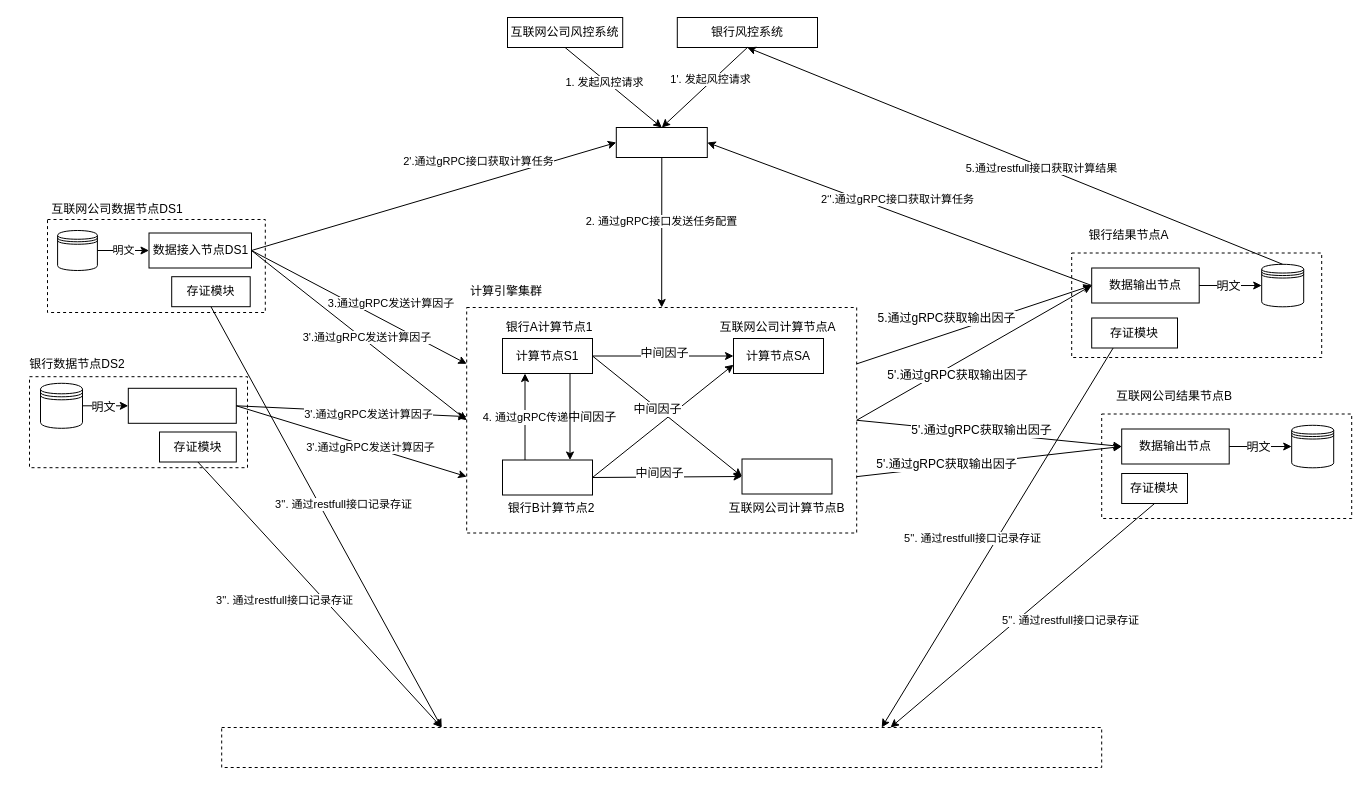
Image size: 1369x785. Some labels were removed from this diagram. The box of each missing label's shape, as (x1, y1, x2, y2) in pixels:
任务调度服务: (615, 126, 707, 158)
分布式存储服务（存证记录）: (221, 726, 1102, 768)
数据接入节点DS2: (127, 387, 236, 423)
计算节点S2: (502, 459, 592, 495)
计算节点SB: (741, 458, 832, 494)
